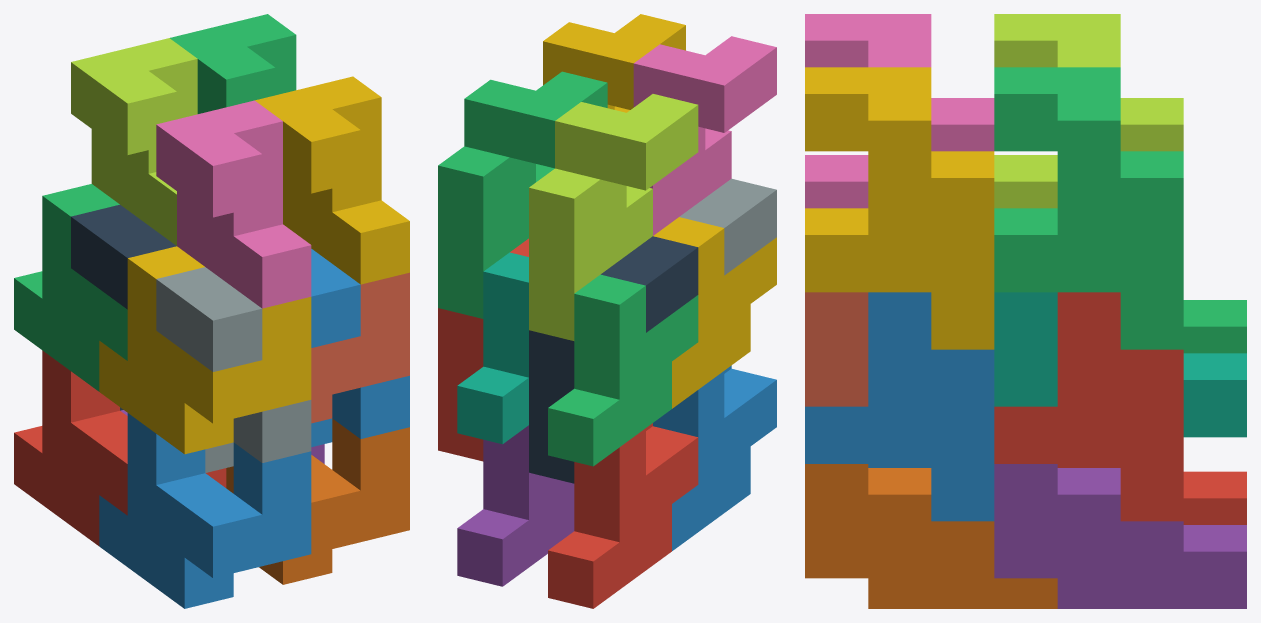
Rendered from tiling.obj.
3 views of the same model, side by side, from view 1: azimuth 30°, elevation 25°; view 2: azimuth 150°, elevation 25°; view 3: azimuth 270°, elevation 25° (orthographic). The views are drawn at different scales.
Parts seen in each view (by area): view 1: copy_1_domain_2, copy_2_domain_4, copy_1_domain_4, copy_2_domain_8, copy_2_domain_3, copy_1_domain_1, copy_2_domain_2, copy_1_domain_3, copy_1_domain_6, copy_2_domain_7, copy_1_domain_8, copy_2_domain_6 (+1 smaller); view 2: copy_2_domain_3, copy_2_domain_7, copy_1_domain_3, copy_1_domain_1, copy_2_domain_4, copy_1_domain_5, copy_1_domain_2, copy_1_domain_4, copy_2_domain_1, copy_1_domain_7, copy_2_domain_8, copy_2_domain_5 (+1 smaller); view 3: copy_2_domain_7, copy_2_domain_8, copy_1_domain_5, copy_2_domain_5, copy_2_domain_6, copy_1_domain_6, copy_2_domain_3, copy_2_domain_4, copy_1_domain_7, copy_1_domain_8, copy_1_domain_1, copy_1_domain_3.
Part boxes in pixels (<box>): copy_1_domain_2: <box>99,413,311,608</box>; copy_2_domain_4: <box>156,100,311,308</box>; copy_1_domain_4: <box>99,246,311,454</box>; copy_2_domain_8: <box>255,76,409,284</box>; copy_2_domain_3: <box>71,38,197,245</box>; copy_1_domain_1: <box>14,350,226,545</box>; copy_2_domain_2: <box>156,267,311,472</box>; copy_1_domain_3: <box>14,184,127,391</box>; copy_1_domain_6: <box>226,418,409,584</box>; copy_2_domain_7: <box>170,14,296,113</box>; copy_1_domain_8: <box>311,272,409,423</box>; copy_2_domain_6: <box>311,249,409,446</box>; copy_2_domain_3: <box>529,94,698,340</box>; copy_2_domain_7: <box>438,71,607,318</box>; copy_1_domain_3: <box>548,274,698,466</box>; copy_1_domain_1: <box>548,423,698,608</box>; copy_2_domain_4: <box>633,36,776,235</box>; copy_1_domain_5: <box>457,425,574,586</box>; copy_1_domain_2: <box>653,365,776,550</box>; copy_1_domain_4: <box>653,217,776,408</box>; copy_2_domain_1: <box>529,236,698,483</box>; copy_1_domain_7: <box>457,252,528,444</box>; copy_2_domain_8: <box>543,14,685,112</box>; copy_2_domain_5: <box>438,238,528,461</box>; copy_2_domain_7: <box>994,67,1183,349</box>; copy_2_domain_8: <box>805,67,994,349</box>; copy_1_domain_5: <box>994,464,1246,608</box>; copy_2_domain_5: <box>994,292,1183,521</box>; copy_2_domain_6: <box>805,292,994,521</box>; copy_1_domain_6: <box>805,464,1057,608</box>; copy_2_domain_3: <box>994,14,1183,208</box>; copy_2_domain_4: <box>805,14,994,208</box>; copy_1_domain_7: <box>994,292,1246,437</box>; copy_1_domain_8: <box>805,292,868,406</box>; copy_1_domain_1: <box>1057,464,1246,524</box>; copy_1_domain_3: <box>1183,300,1246,353</box>.
Size of the model in its own units: 4 by 9 by 7.
